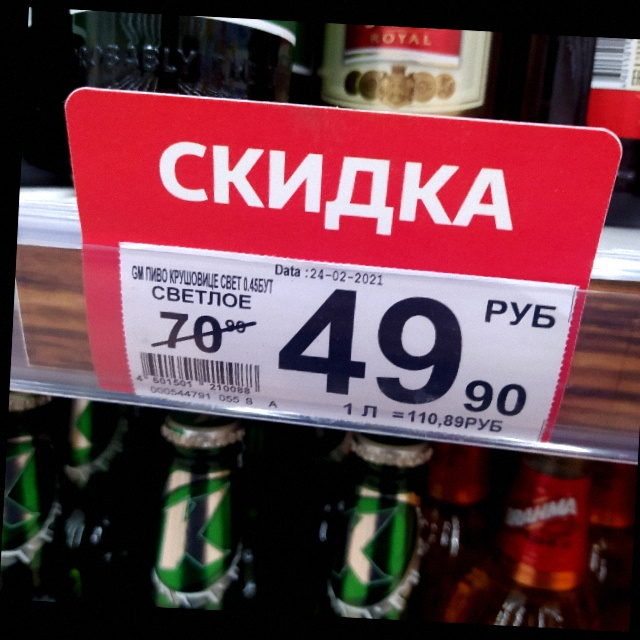barcode: (135, 350, 263, 395)
name: (129, 263, 275, 311)
price: (277, 287, 528, 416)
price_tag: (116, 241, 580, 444)
